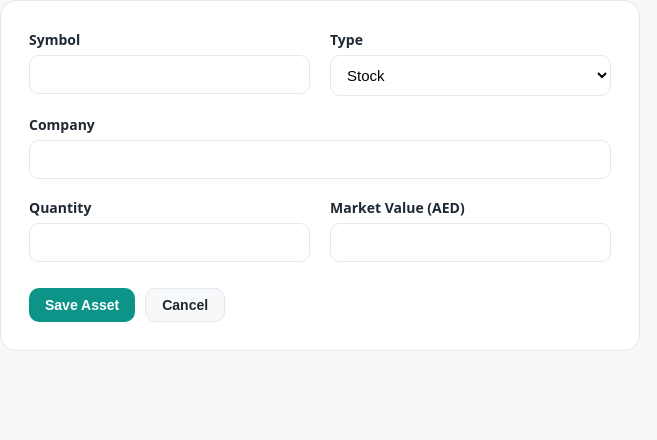
Test: empty form shows errors and does not save
The width and height of the screenshot is (657, 440).
What coordinates should you click on to do the following:
click the button "Save Asset"
I would click on:
 (82, 305)
Its box is 29,288 -> 135,322.
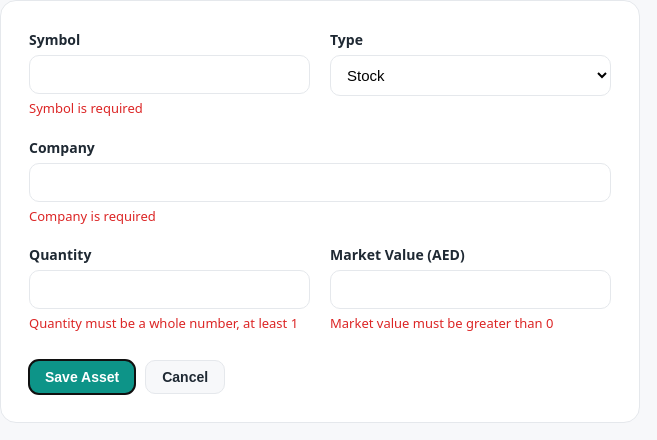
expect the text "Symbol is required" is shown: met, box 29,99 -> 143,117
expect the text "Company is required" is shown: met, box 29,206 -> 156,224
expect the text "Quantity must be a whole number, at least 1" is shown: met, box 29,314 -> 310,334
